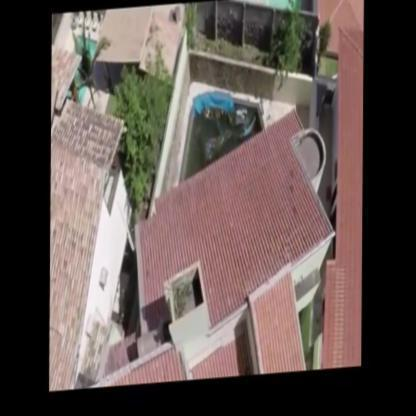agua: (194, 112, 256, 152)
